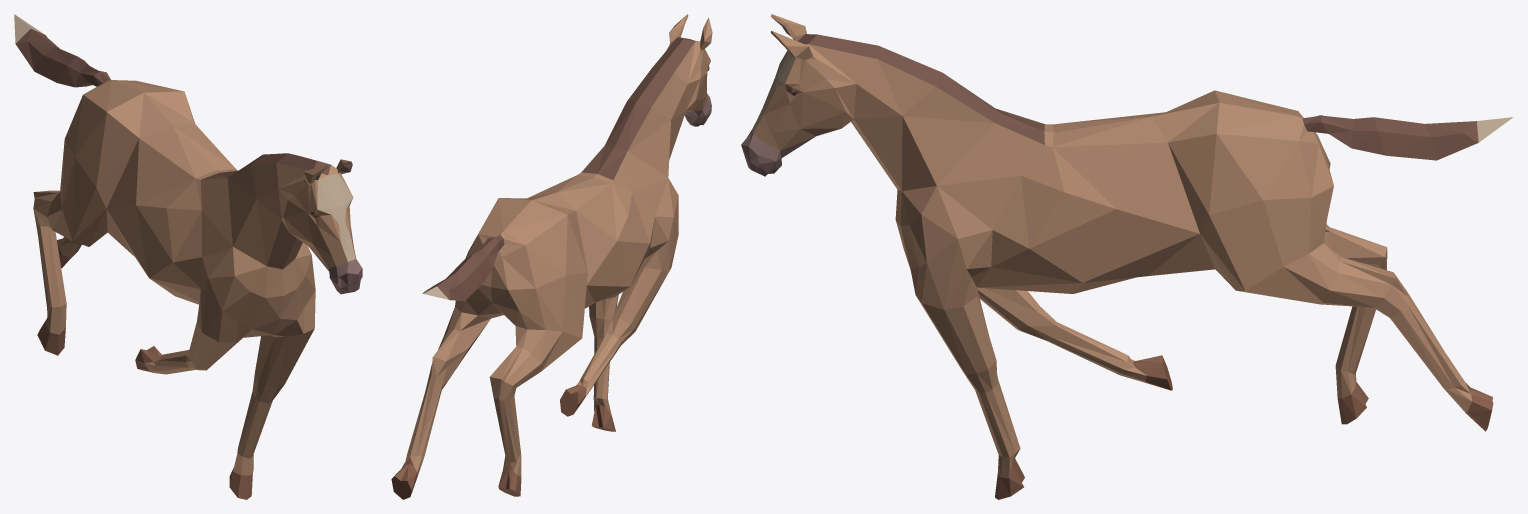
File: Horse.glb
The picture shows the model from 3 angles, left to right: view 1: azimuth 30°, elevation 25°; view 2: azimuth 150°, elevation 25°; view 3: azimuth 270°, elevation 25°; orthographic projection. The views are drawn at different scales.
Visible parts, largest first — view 1: mesh_0; view 2: mesh_0; view 3: mesh_0.
Boxes of the visible parts, left/top/right/bottom form: mesh_0: left=14, top=14, right=362, bottom=499; mesh_0: left=391, top=14, right=712, bottom=499; mesh_0: left=741, top=14, right=1513, bottom=499.
Bounding box in the file's own units: 65.58 × 199 × 294.
